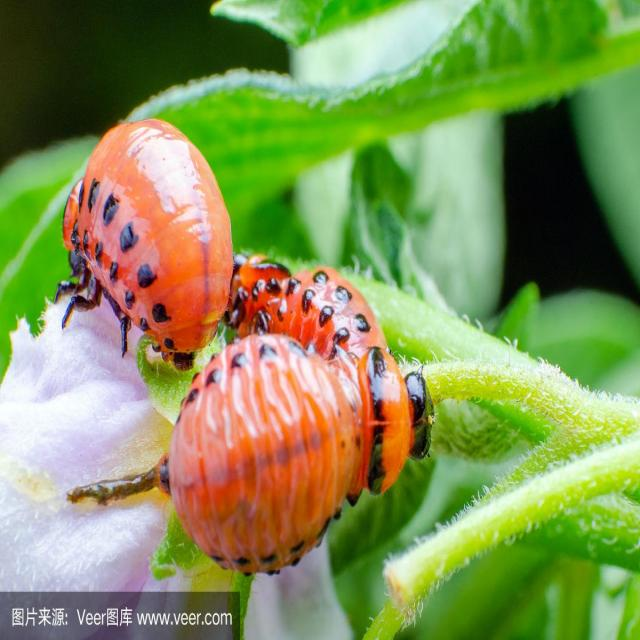ShuCaiHuaBanChong-Larva-: (174, 319, 397, 582), (228, 231, 428, 470), (69, 113, 234, 370)
